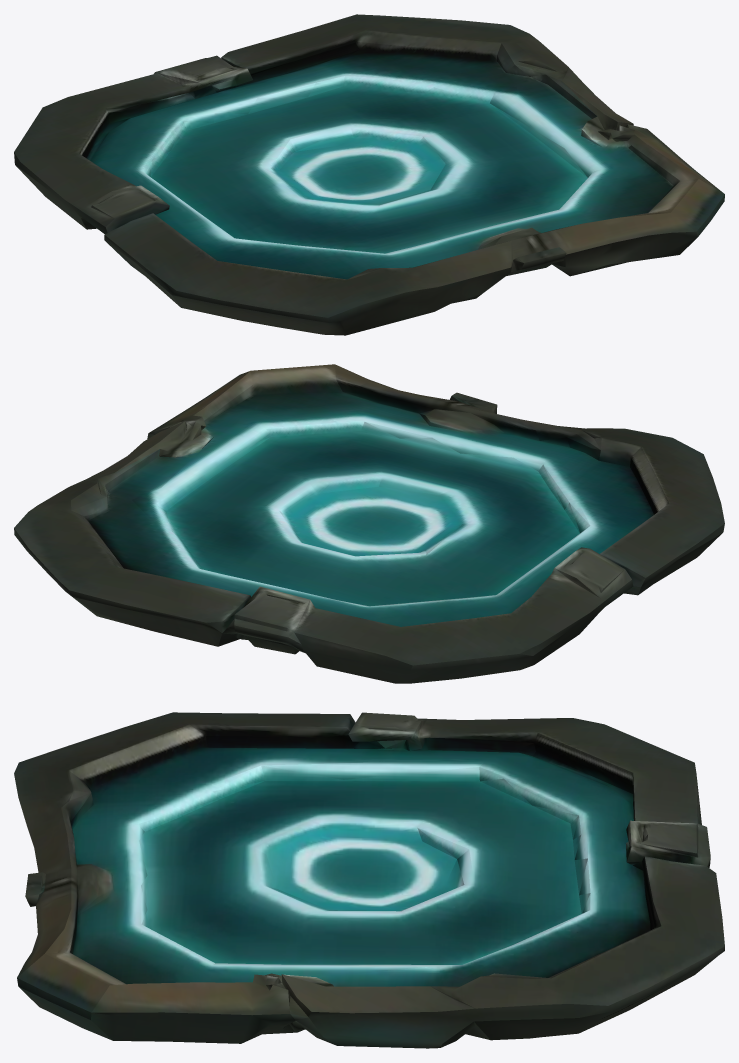
The model's file is m2EnergyPad.glb.
The picture shows the model from 3 angles, top to bottom: view 1: azimuth 30°, elevation 25°; view 2: azimuth 150°, elevation 25°; view 3: azimuth 270°, elevation 25°; orthographic projection. The views are drawn at different scales.
Visible parts, largest first — view 1: model; view 2: model; view 3: model.
Boxes of the visible parts, x1=… form: model: x1=14, y1=14, x2=724, y2=335; model: x1=14, y1=364, x2=724, y2=683; model: x1=14, y1=712, x2=724, y2=1048.
Size of the model in its own units: 1.89 by 0.1759 by 1.89.
Materials: 1 (1 with a texture image).
